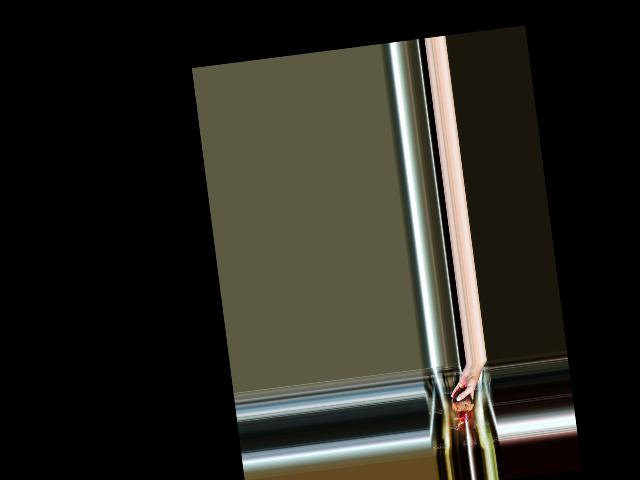beet: (449, 387, 476, 430)
